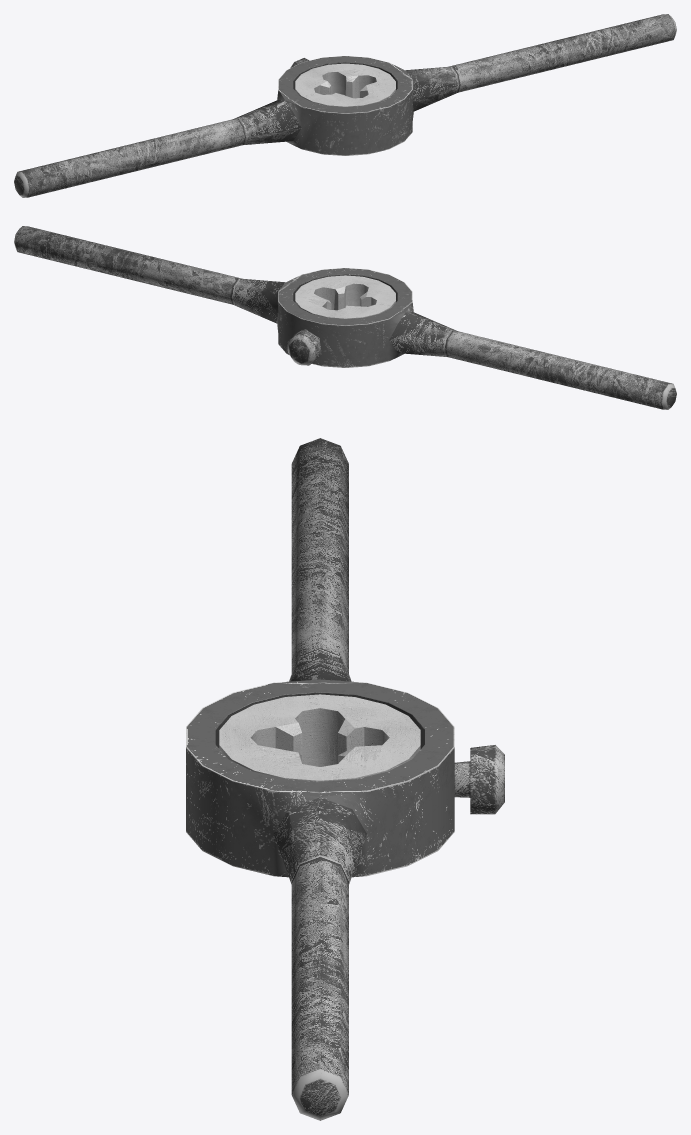
Rendered from Chaser01.FBX.
3 renders of one model, top to bottom at view 1: azimuth 30°, elevation 25°; view 2: azimuth 150°, elevation 25°; view 3: azimuth 270°, elevation 25°, orthographic. The views are drawn at different scales.
Parts seen in each view (by area): view 1: Chaser01_LOD1; view 2: Chaser01_LOD1; view 3: Chaser01_LOD1.
Boxes of the visible parts, left/top/right/bottom form: Chaser01_LOD1: left=14, top=14, right=676, bottom=197; Chaser01_LOD1: left=14, top=226, right=676, bottom=409; Chaser01_LOD1: left=186, top=438, right=504, bottom=1120.
Size of the model in its own units: 15.69 by 0.9789 by 3.32.
